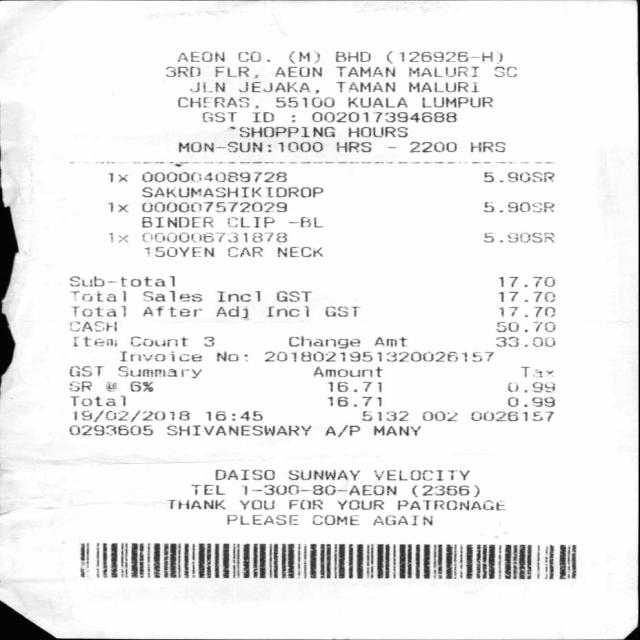text: (263, 351, 492, 362), (243, 484, 395, 496), (140, 201, 286, 212), (140, 171, 285, 182), (311, 111, 455, 122), (166, 425, 310, 436), (142, 232, 286, 242), (386, 51, 502, 63), (73, 410, 188, 422), (141, 186, 255, 198), (396, 499, 504, 511), (228, 126, 334, 138), (372, 469, 468, 481), (68, 276, 173, 286), (116, 366, 200, 378), (68, 424, 152, 436), (238, 82, 318, 94), (177, 96, 257, 108), (119, 351, 201, 362), (471, 411, 552, 422), (177, 142, 266, 152), (421, 96, 492, 108), (141, 216, 212, 228), (287, 336, 358, 348), (411, 486, 478, 498), (407, 66, 477, 77), (407, 81, 477, 92), (483, 171, 553, 182), (143, 246, 212, 257), (313, 366, 382, 377), (287, 470, 358, 480), (347, 96, 406, 108), (482, 232, 552, 242), (275, 96, 333, 108), (348, 126, 406, 138), (142, 290, 200, 302), (484, 202, 553, 212), (227, 515, 296, 525), (267, 186, 322, 198), (70, 290, 125, 302), (214, 469, 274, 480), (335, 66, 394, 77), (335, 81, 394, 92), (495, 336, 554, 347), (496, 291, 554, 302), (142, 306, 200, 317), (71, 305, 124, 317), (498, 276, 554, 287), (498, 306, 554, 317), (69, 395, 124, 406), (495, 322, 554, 332), (372, 516, 431, 526), (327, 381, 380, 392), (327, 396, 380, 407), (166, 499, 224, 509), (130, 336, 187, 346), (205, 410, 261, 420), (227, 216, 273, 228), (311, 514, 357, 526), (176, 51, 224, 62), (276, 141, 324, 152), (215, 290, 259, 302), (506, 396, 554, 407), (68, 321, 115, 332), (360, 410, 407, 421), (372, 425, 419, 436), (274, 66, 320, 77), (214, 66, 256, 78), (276, 246, 321, 257), (337, 499, 382, 510), (506, 382, 554, 392), (470, 139, 506, 152), (266, 306, 308, 317), (409, 142, 455, 152), (334, 141, 372, 153), (324, 424, 359, 437), (72, 336, 116, 346), (287, 216, 321, 228), (334, 51, 369, 62), (164, 66, 199, 77), (324, 306, 359, 317), (421, 411, 456, 422), (215, 306, 247, 318), (189, 81, 223, 92), (227, 246, 261, 257), (276, 291, 310, 302), (372, 336, 406, 347), (288, 498, 322, 509), (288, 51, 319, 63), (190, 484, 223, 495), (520, 366, 552, 377), (201, 112, 236, 122), (238, 51, 269, 62), (68, 366, 102, 376), (239, 500, 273, 510), (215, 352, 246, 362), (492, 66, 516, 77), (128, 381, 152, 392), (68, 381, 90, 392), (251, 111, 272, 122), (107, 202, 126, 212), (108, 172, 126, 182), (107, 233, 127, 242), (203, 336, 213, 346), (105, 382, 115, 392), (290, 114, 294, 122)
